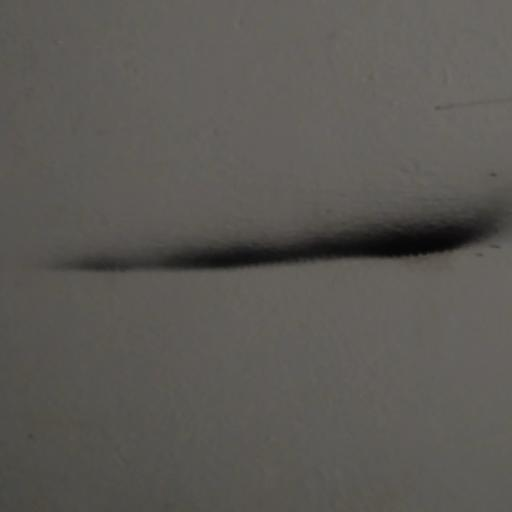stain: (28, 162, 512, 268), (430, 91, 512, 119)
